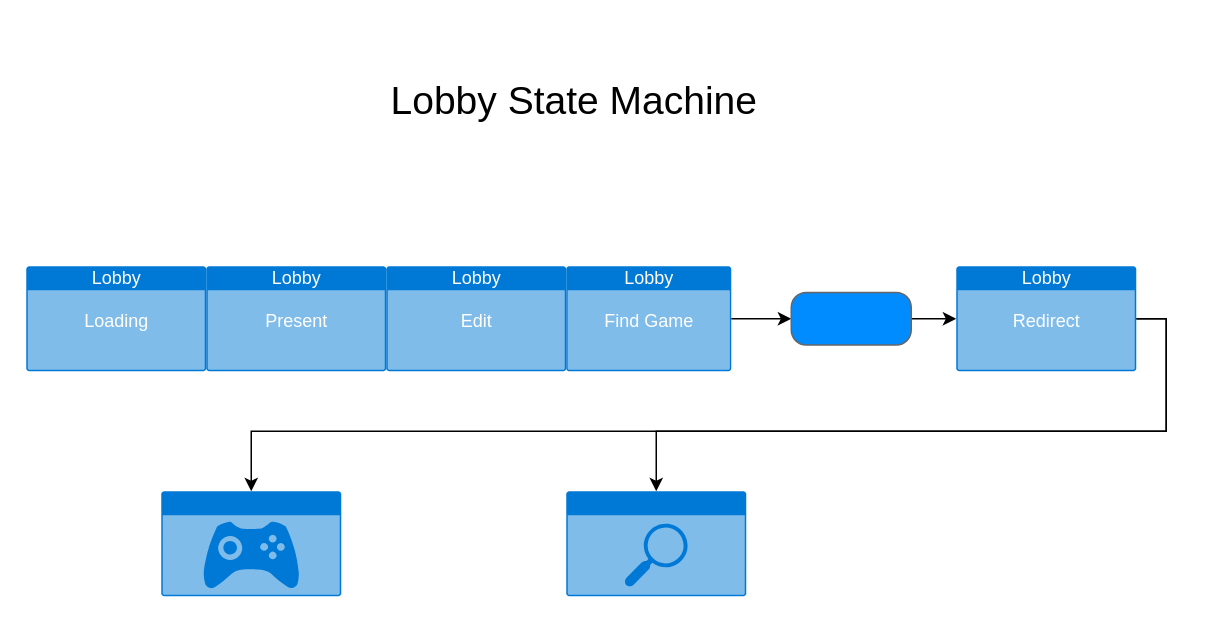
The diagram is 1205 pixels wide and 621 high, and some of its shapes have lost their labels. Each missing label, with the centre of its shape:
Find Game: pixel 850 318
Game: pixel 250 543
Searching for Game: pixel 656 543
